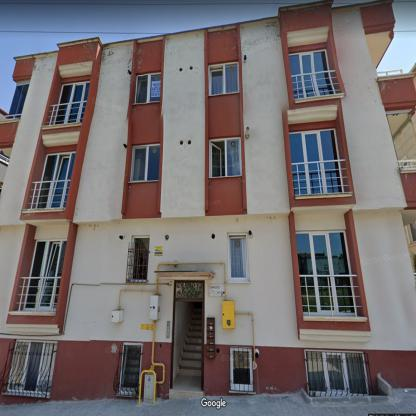window: (296, 231, 356, 315), (289, 128, 344, 194), (25, 241, 66, 308), (306, 351, 369, 394), (8, 341, 57, 394), (288, 50, 336, 100), (36, 151, 76, 208), (54, 81, 90, 124), (211, 138, 241, 176), (132, 144, 160, 181), (121, 344, 142, 393), (209, 62, 238, 94), (8, 83, 30, 120), (135, 73, 161, 103), (132, 238, 150, 280), (230, 237, 246, 279), (232, 351, 251, 385), (176, 282, 202, 298)
